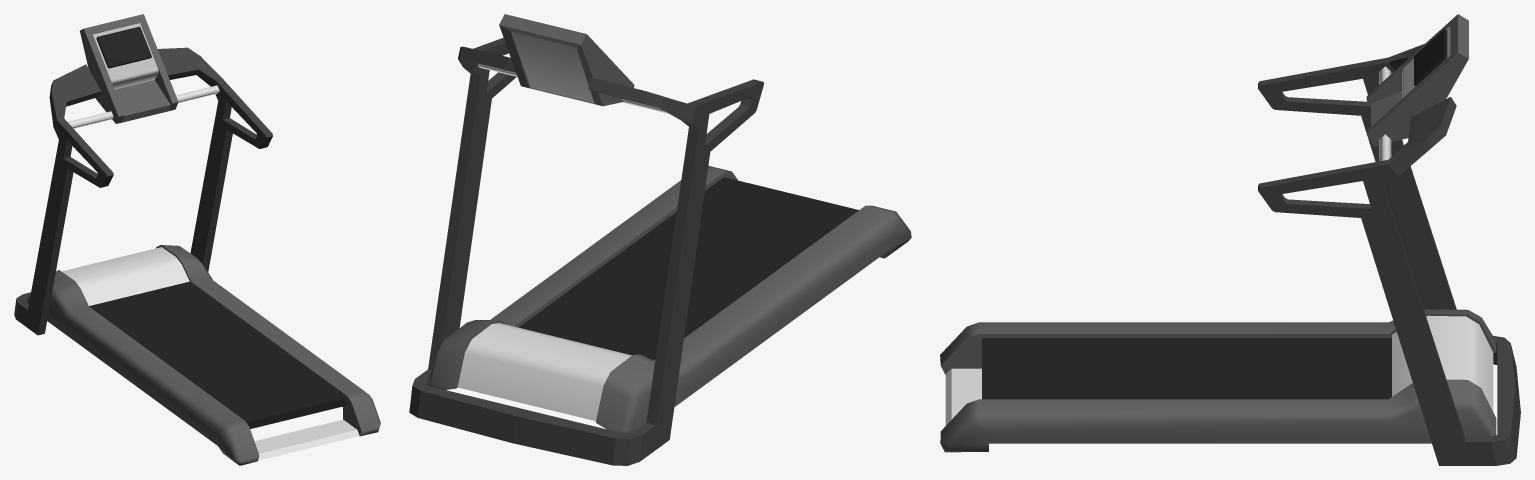
Rendered from training_017.fbx.
The picture shows the model from 3 angles, left to right: view 1: azimuth 30°, elevation 25°; view 2: azimuth 150°, elevation 25°; view 3: azimuth 270°, elevation 25°; orthographic projection. The views are drawn at different scales.
Parts seen in each view (by area): view 1: training_017; view 2: training_017; view 3: training_017.
Boxes of the visible parts, <box> form: training_017: <box>14,14,380,465</box>; training_017: <box>409,14,911,465</box>; training_017: <box>940,14,1520,465</box>.
Bounding box in the file's own units: 79.4 × 183 × 132.
